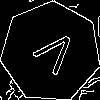V: (26, 27, 81, 83)
